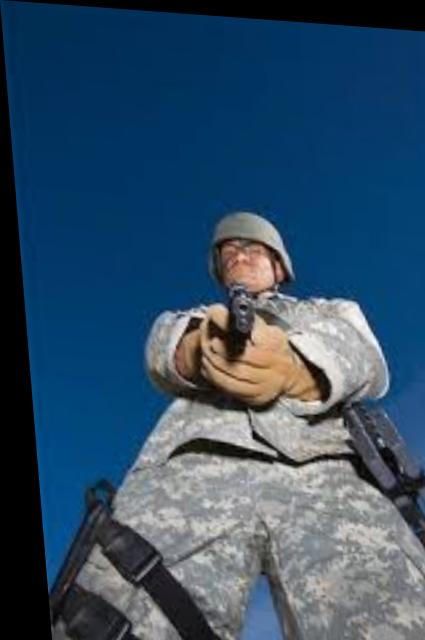other: (88, 207, 424, 640)
